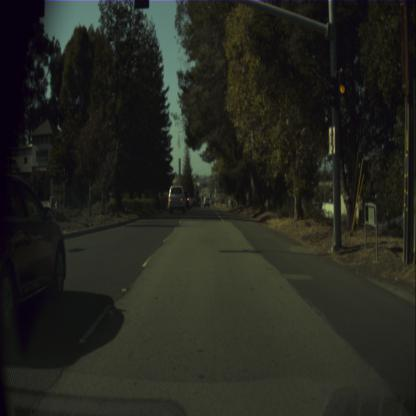Yellow: (338, 72, 348, 108)
